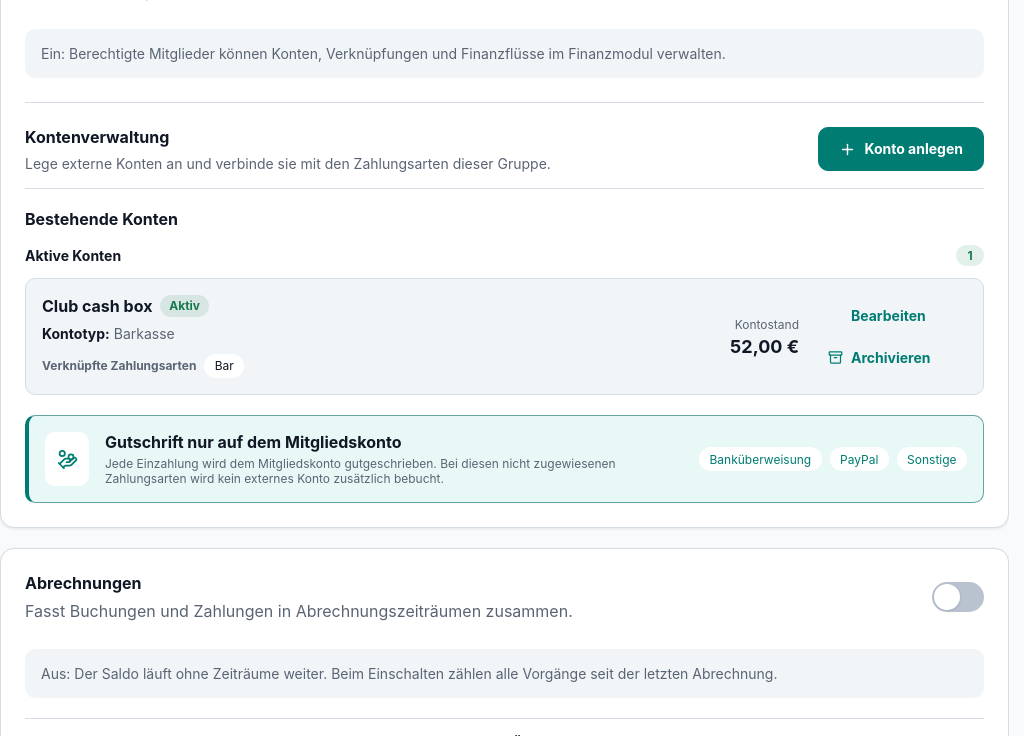
it: BehaviorSettingsPanel › names the single payment method that archival disconnects from its account
(page scrolled)
Expected: the list item "Club cash box" is shown, [42,296,152,316]
Click the button "Archivieren". click: (879, 358)
box: [815,339,944,377]
(page scrolled)
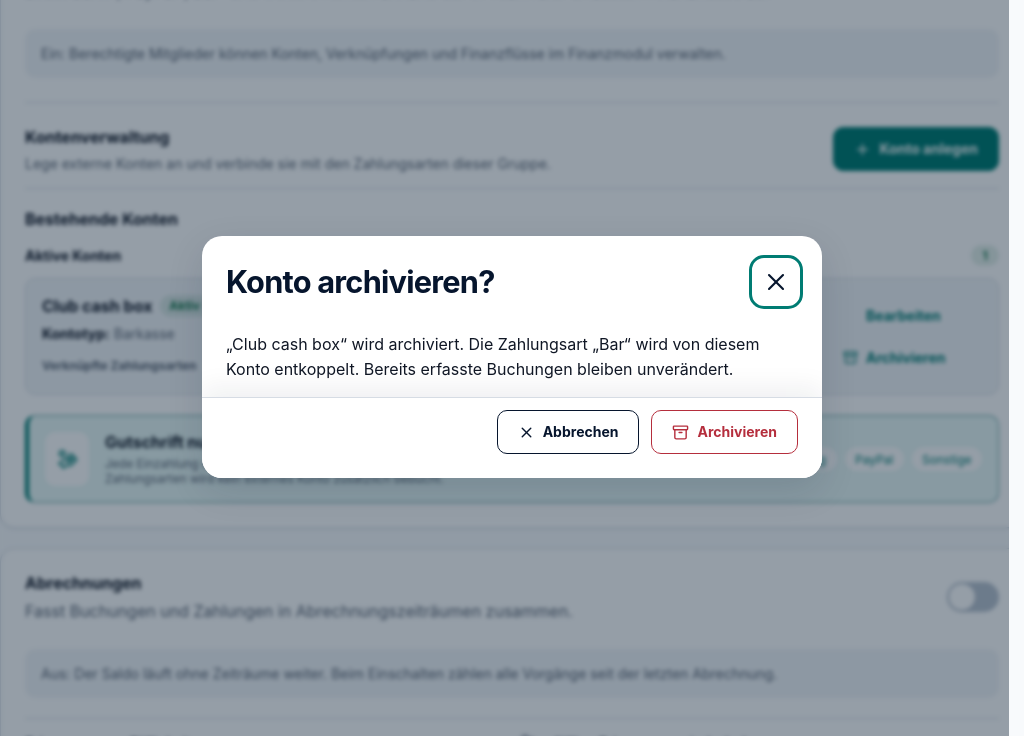
Expected: the dialog "Konto archivieren?" shows "Die Zahlungsart „Bar“ wird von diesem Konto entkoppelt.", [226,334,760,378]
Expected: the dialog "Konto archivieren?" shows "Bereits erfasste Buchungen bleiben unverändert.", [226,334,760,378]
